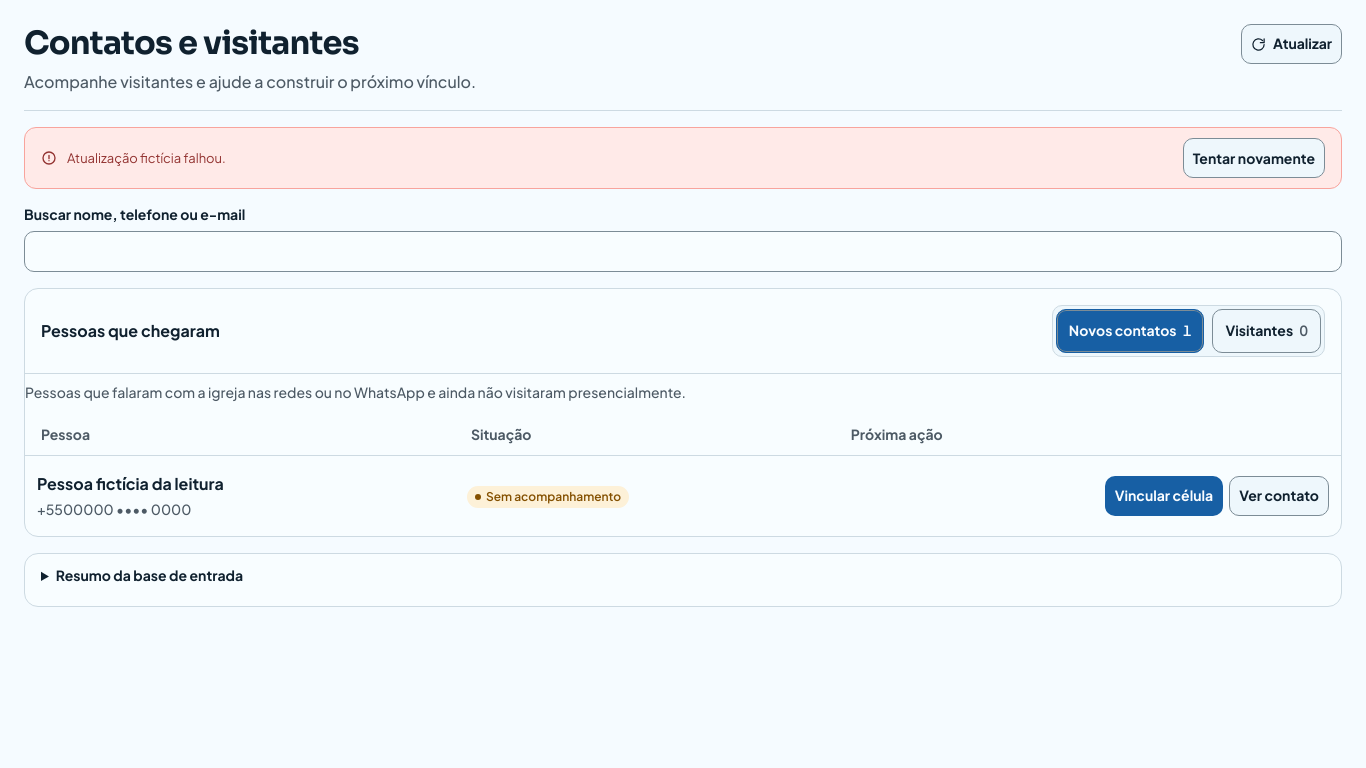
Test: Ganhar, erro de leitura › revalidação que falha mantém a última lista confirmada e permite tentar novamente
Check: the message "Atualização fictícia falhou. Tentar novamente" is shown, box [24,127,1342,189]
Click the button "Tentar novamente" at (1254, 158), box [1183,138,1325,178]
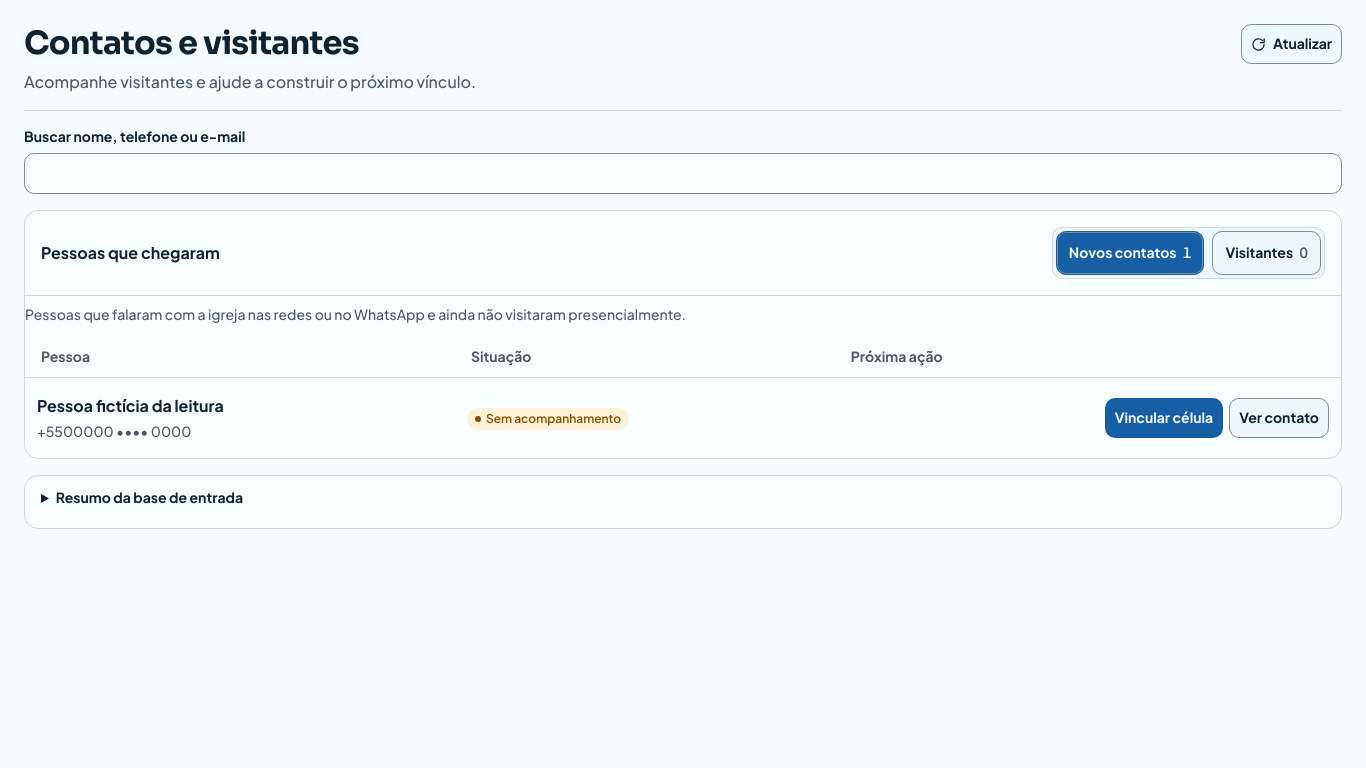
Check: the text "Pessoa fictícia da leitura" is shown, box [37,395,224,416]
Check: the message "Atualização fictícia falhou. Tentar novamente" is gone
